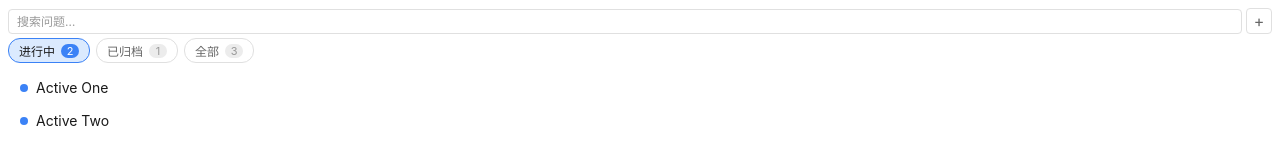
QuestionList › shows the empty-search message when search yields no chip-allowed hits
Expected: the text "Active One" is shown, [36, 79, 108, 96]
In the field: (625,21) [8, 8, 1242, 34], type "archived"
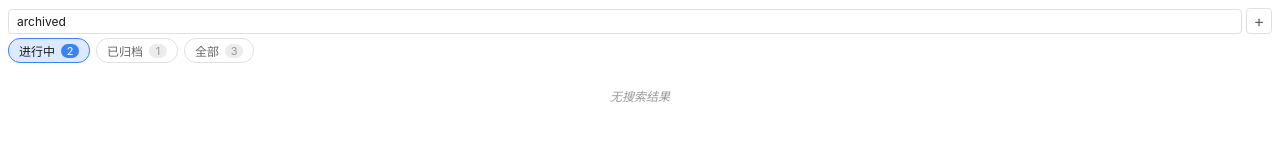
Expected: the button "Active One" is gone
Expected: the button "Active Two" is gone
